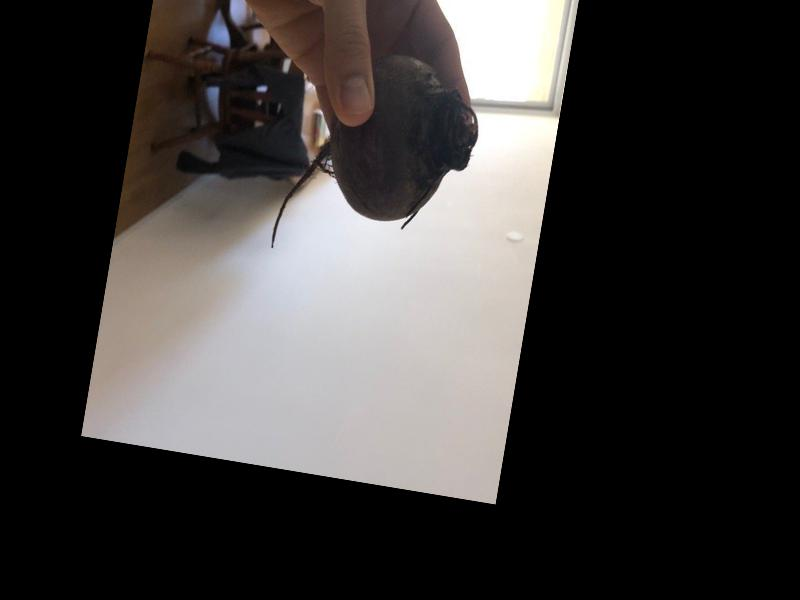Beet: (270, 39, 489, 279)
